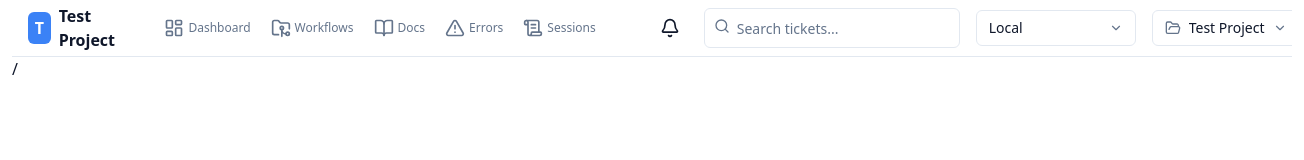
Test: Header - connection dropdown › selecting Manage connections navigates to /settings?tab=connections
Click the button "Local" at [1056, 28], box [976, 10, 1136, 46]
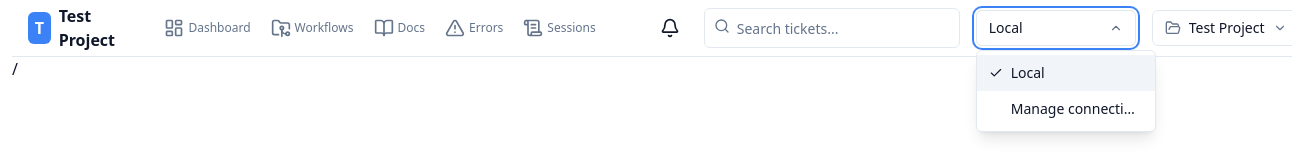
Click the text "Manage connections…" at [1077, 109], box [1011, 99, 1143, 119]
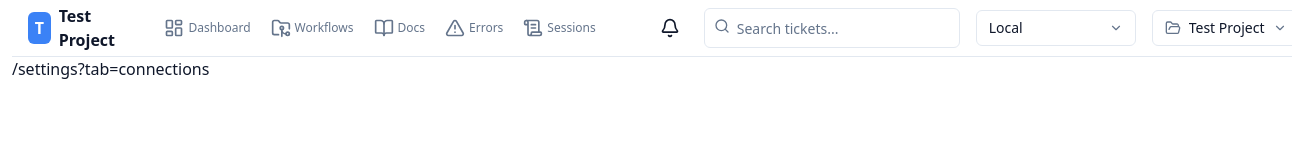
Result: the text with test id "location" reads "/settings?tab=connections" at [12, 58, 209, 80]
